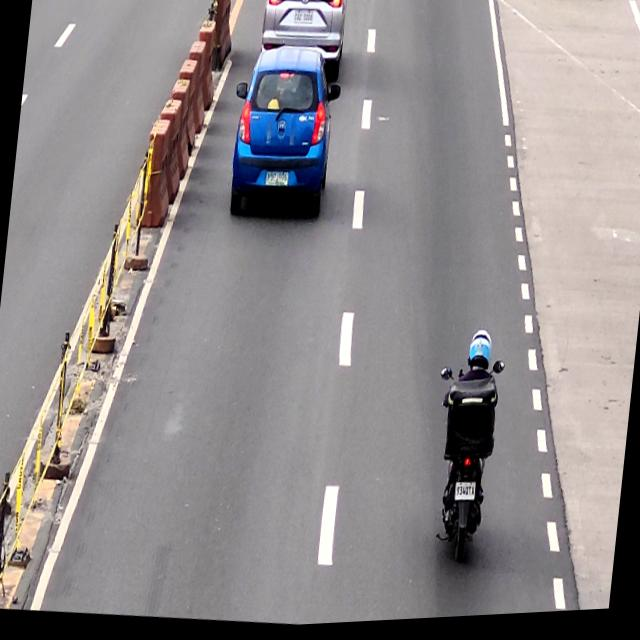Car: (222, 40, 346, 234), (256, 0, 350, 89)
License-Plate: (452, 483, 478, 508), (264, 170, 290, 191), (292, 11, 314, 29)
Motorcycle: (422, 358, 507, 575)
